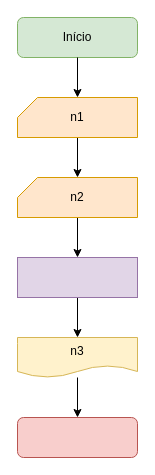
This 155x475 diagram has some shape labels left out. Here are the shapes that lost their labels. From the top down, the centre of each, then its label:
At pixel 77 277: "n3 = n1 + n2".
At pixel 77 437: "Fim".
